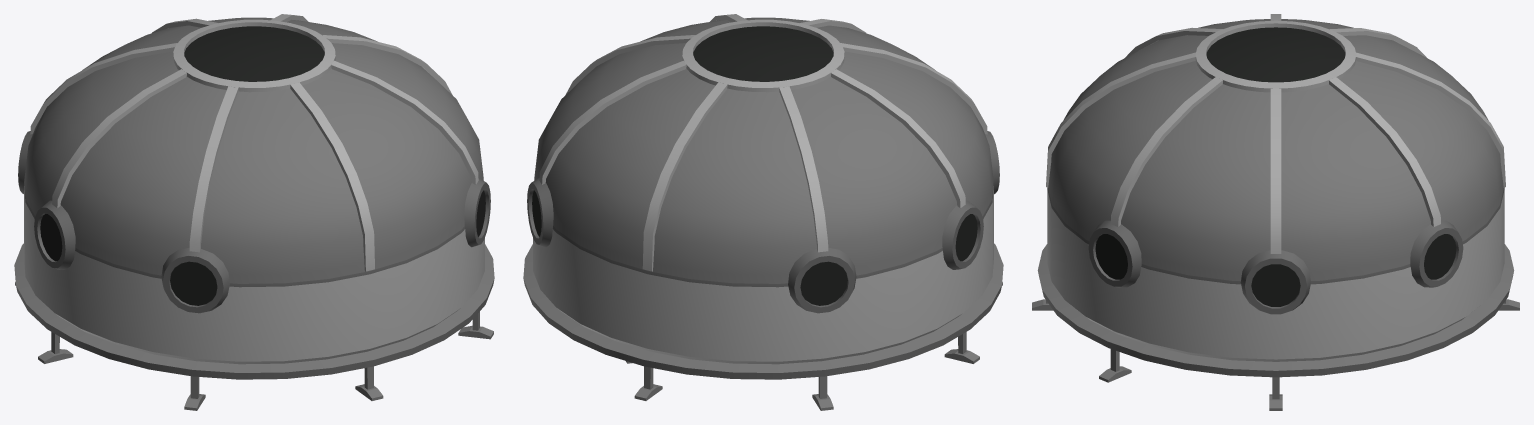
The model's file is base-large.glb.
3 views of the same model, side by side, from view 1: azimuth 30°, elevation 25°; view 2: azimuth 150°, elevation 25°; view 3: azimuth 270°, elevation 25° (orthographic).
Visible parts, largest first — view 1: Base_Large; view 2: Base_Large; view 3: Base_Large.
Part boxes in pixels (left/top/right/bottom): Base_Large: left=14, top=14, right=494, bottom=410; Base_Large: left=523, top=14, right=1003, bottom=410; Base_Large: left=1032, top=14, right=1519, bottom=410.
Bounding box in the file's own units: 8.53 × 4.97 × 8.53.
Materials: 1 (1 with a texture image).
